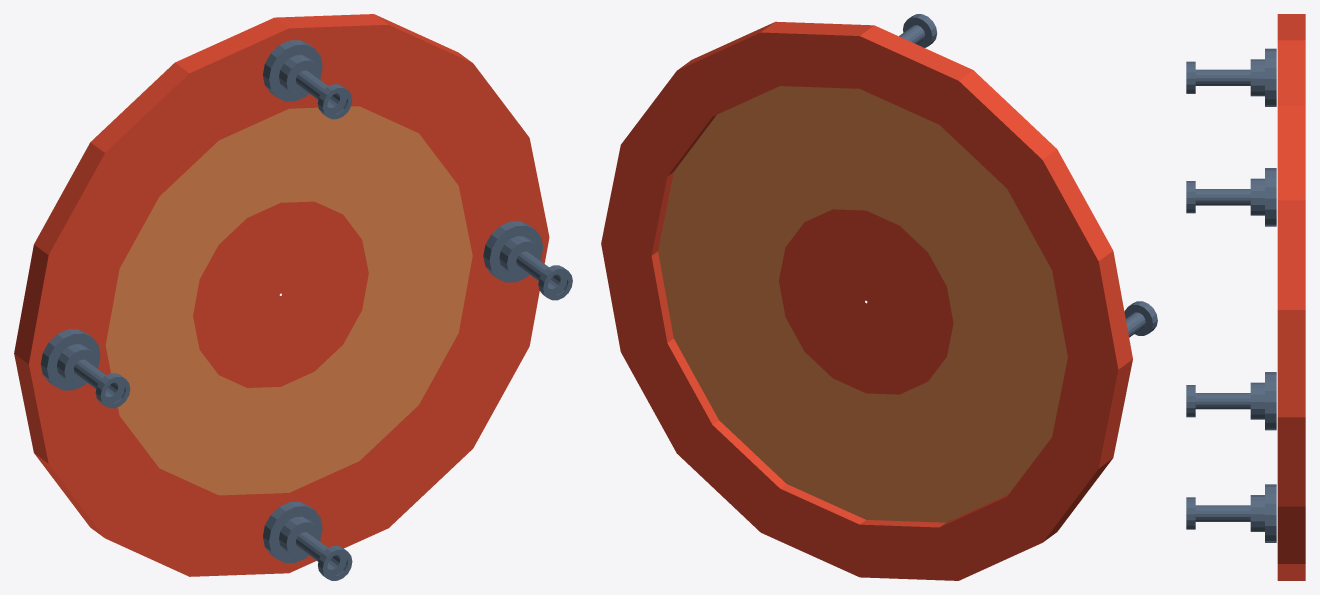
File: Trampoline.fbx
3 renders of one model, left to right at view 1: azimuth 30°, elevation 25°; view 2: azimuth 150°, elevation 25°; view 3: azimuth 270°, elevation 25°, orthographic. The views are drawn at different scales.
Parts seen in each view (by area): view 1: Circle.001; view 2: Circle.001; view 3: Circle.001.
Boxes of the visible parts, bbox=[...] form: Circle.001: bbox=[14, 14, 572, 580]; Circle.001: bbox=[601, 14, 1157, 580]; Circle.001: bbox=[1186, 14, 1305, 580].
Bounding box in the file's own units: 263 × 263 × 55.33.
